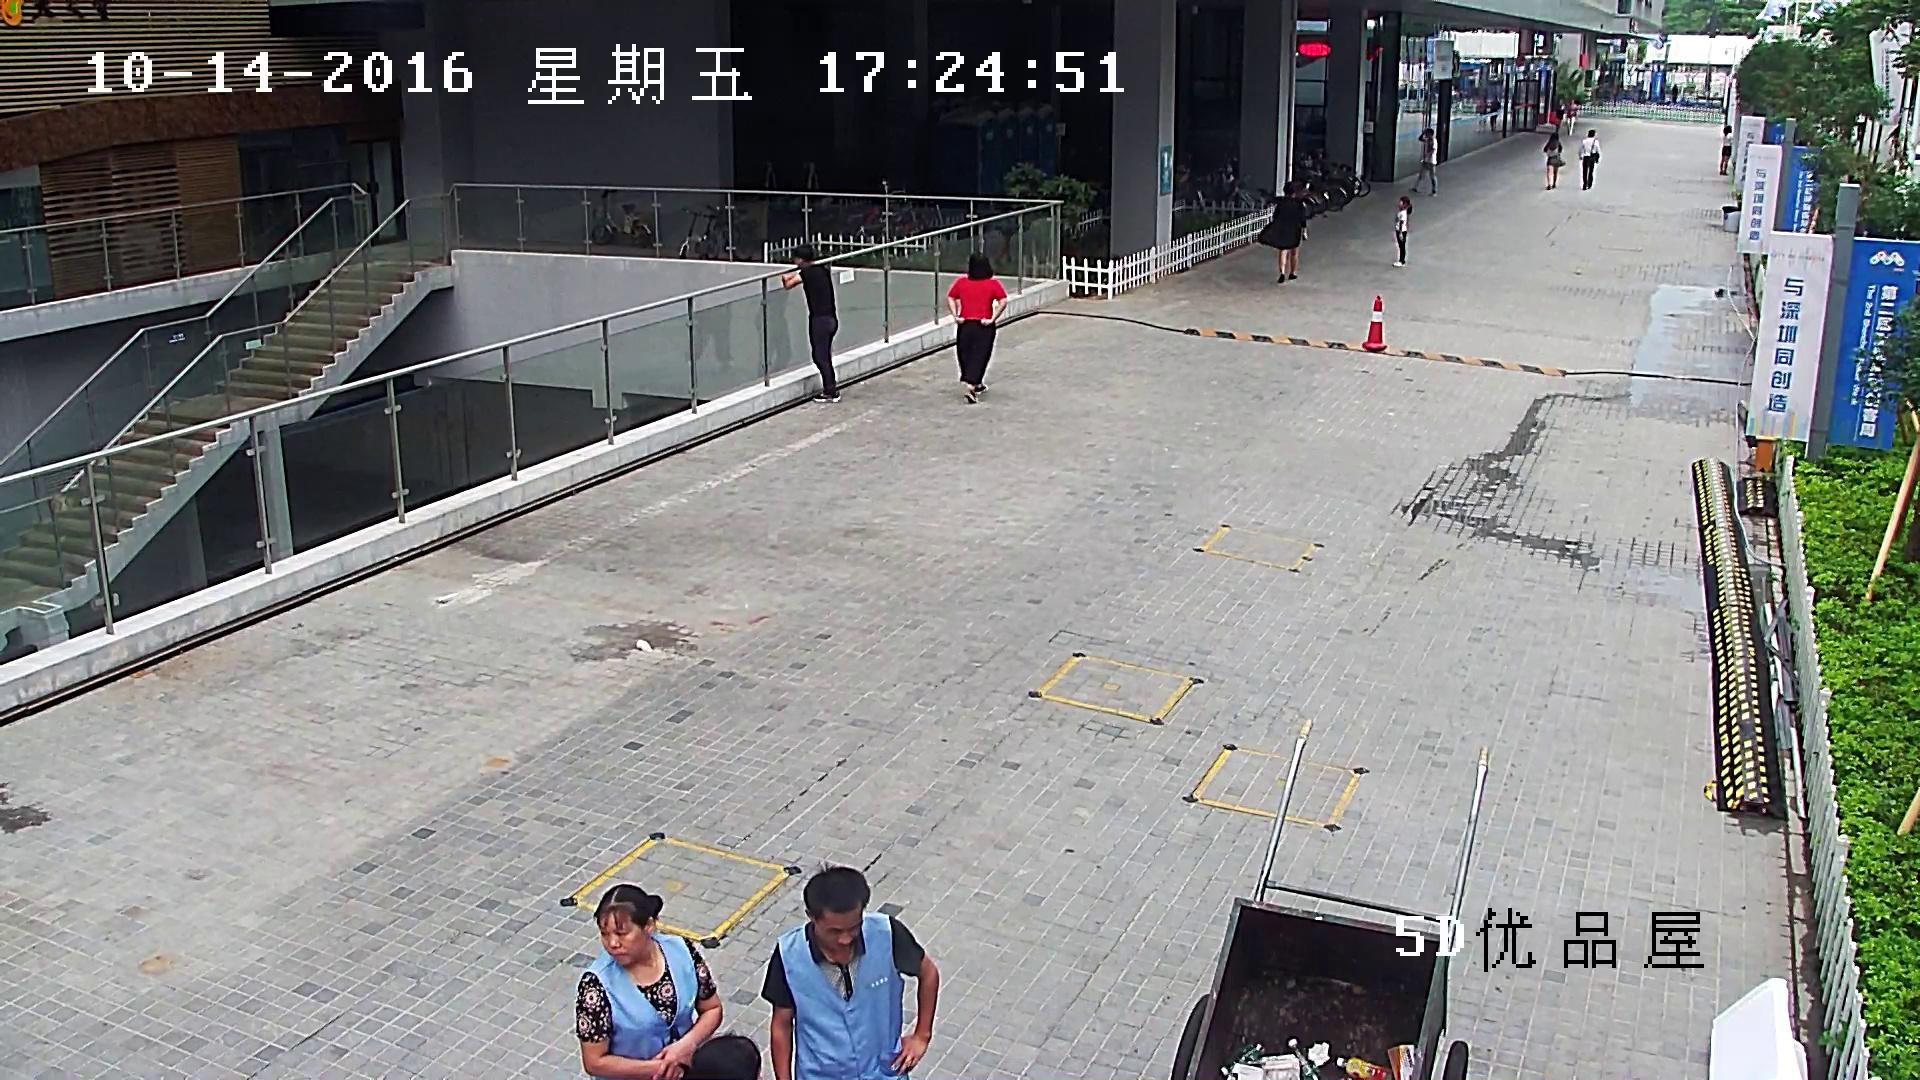person: (760, 864, 940, 1080), (575, 882, 723, 1080), (780, 243, 842, 403), (946, 251, 1008, 404), (1256, 182, 1307, 283), (686, 304, 736, 373), (753, 288, 791, 377), (1411, 128, 1437, 196), (1392, 195, 1412, 267), (1543, 132, 1565, 190), (1578, 129, 1599, 190), (1719, 125, 1732, 175), (1565, 98, 1577, 135), (1490, 93, 1501, 130)
